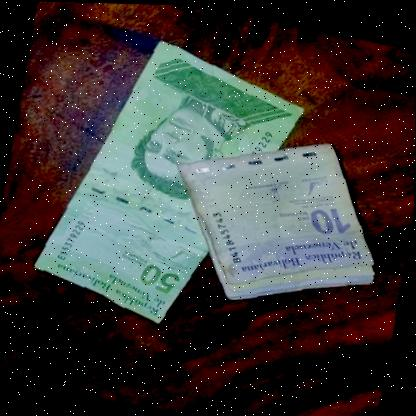vef_front: (26, 21, 311, 346)
